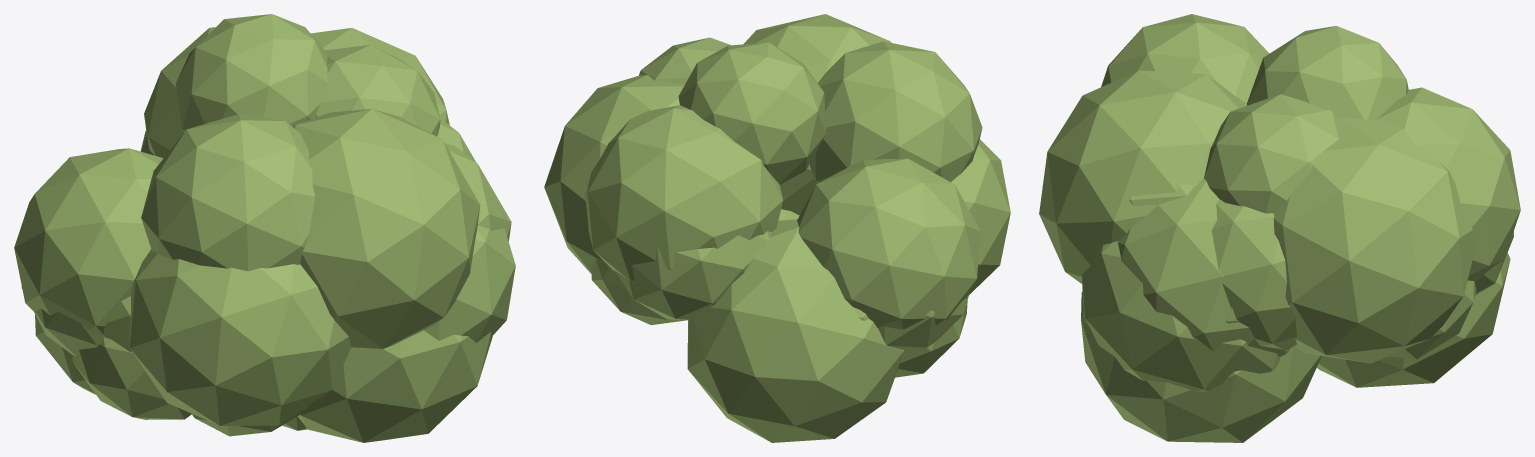
The model's file is Bush_Field_1.fbx.
3 views of the same model, side by side, from view 1: azimuth 30°, elevation 25°; view 2: azimuth 150°, elevation 25°; view 3: azimuth 270°, elevation 25° (orthographic). The views are drawn at different scales.
Visible parts, largest first — view 1: Bush_4; view 2: Bush_4; view 3: Bush_4.
Boxes of the visible parts, left/top/right/bottom form: Bush_4: left=14, top=14, right=515, bottom=442; Bush_4: left=544, top=14, right=1010, bottom=442; Bush_4: left=1039, top=14, right=1520, bottom=442.
Bounding box in the file's own units: 122 × 105 × 119.
